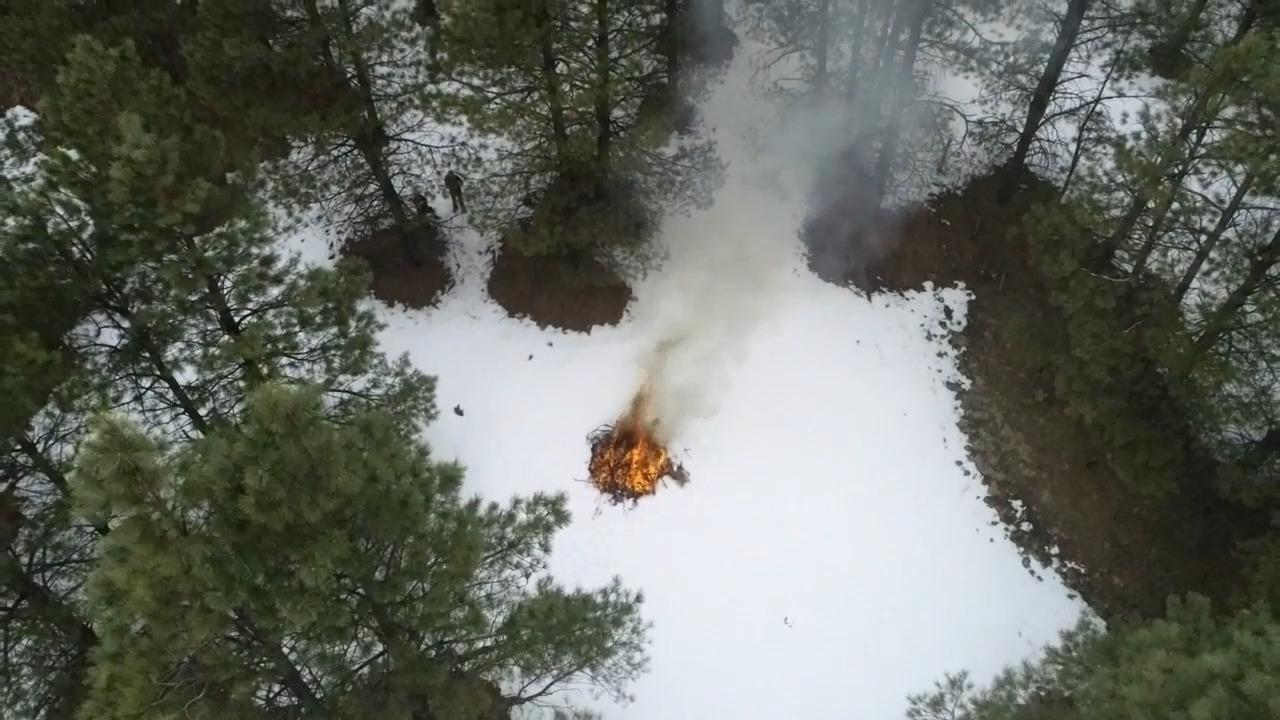fire: (573, 371, 682, 496)
smoke: (661, 3, 924, 272)
